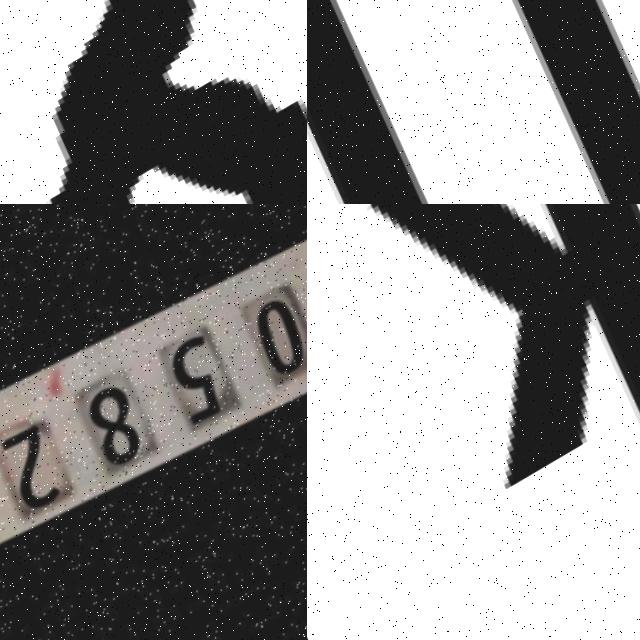0: (228, 281, 307, 414)
2: (0, 401, 109, 545)
5: (140, 314, 273, 460)
8: (58, 360, 190, 503)
9: (0, 0, 307, 204)
K: (334, 204, 640, 640)
M: (307, 0, 640, 204)
